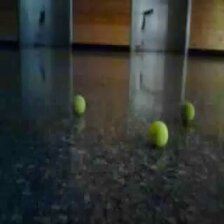tennis: (147, 121, 168, 148), (180, 102, 195, 124), (72, 95, 86, 115)
